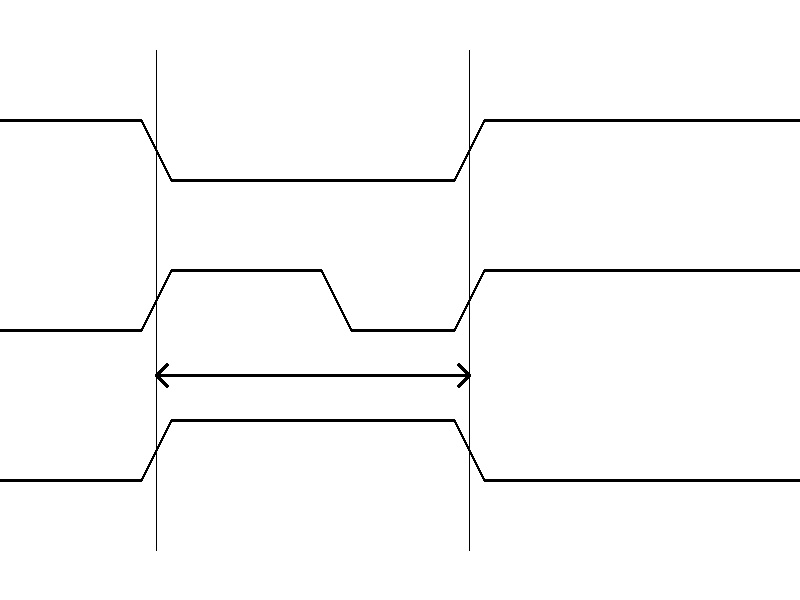double_arrow: (156, 360, 469, 390)
